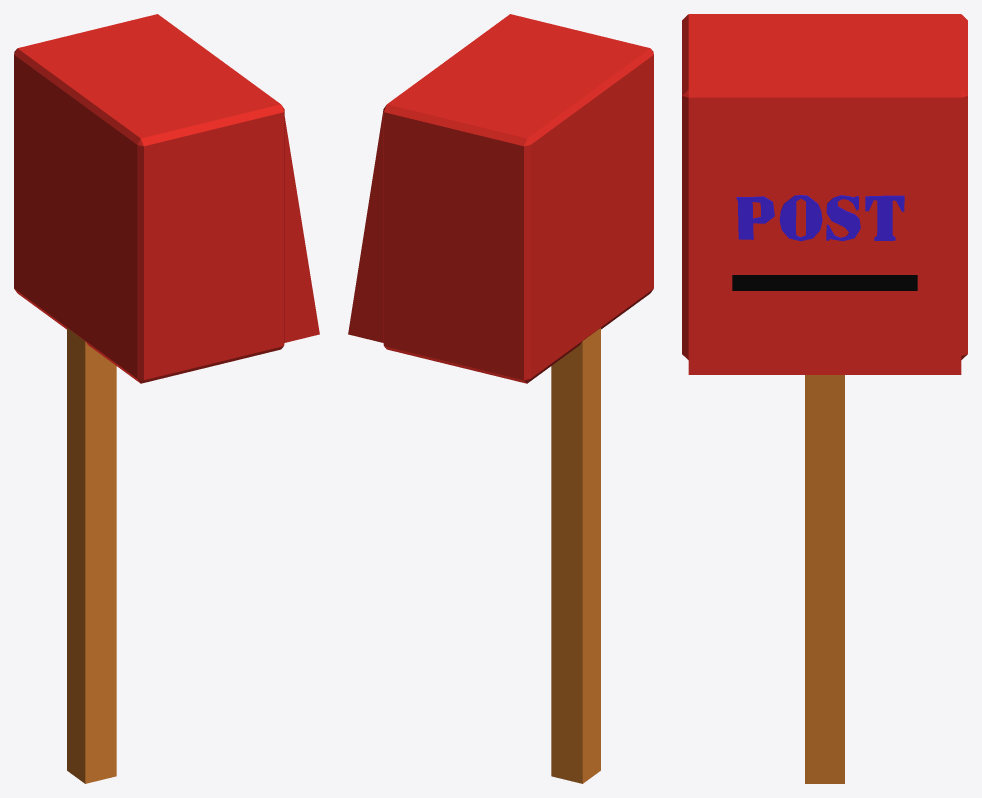
Rendered from mailbox.fbx.
The picture shows the model from 3 angles, left to right: view 1: azimuth 30°, elevation 25°; view 2: azimuth 150°, elevation 25°; view 3: azimuth 270°, elevation 25°; orthographic projection. The views are drawn at different scales.
Parts seen in each view (by area): view 1: Cube.001, Cube; view 2: Cube.001, Cube; view 3: Cube.001, Cube, Plane.
Part boxes in pixels (left/top/right/bottom): Cube.001: left=14, top=14, right=319, bottom=383; Cube: left=67, top=328, right=116, bottom=783; Cube.001: left=348, top=14, right=653, bottom=383; Cube: left=551, top=328, right=600, bottom=783; Cube.001: left=682, top=14, right=967, bottom=374; Cube: left=805, top=375, right=844, bottom=783; Plane: left=736, top=195, right=904, bottom=241.
Size of the model in its own units: 51.09 by 183 by 62.74.
